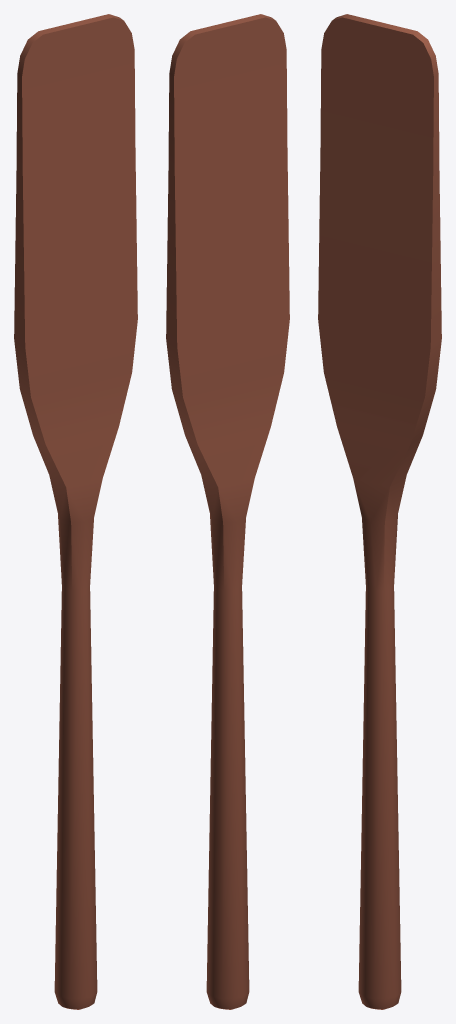
The model's file is oar.gltf.glb.
The picture shows the model from 3 angles, left to right: view 1: azimuth 30°, elevation 25°; view 2: azimuth 210°, elevation 25°; view 3: azimuth 330°, elevation 25°; orthographic projection.
Parts seen in each view (by area): view 1: oar; view 2: oar; view 3: oar.
Part boxes in pixels (<box>): oar: <box>14,14,137,1009</box>; oar: <box>166,14,289,1009</box>; oar: <box>318,14,441,1009</box>.
Bounding box in the file's own units: 0.2542 × 2.12 × 0.0833.
